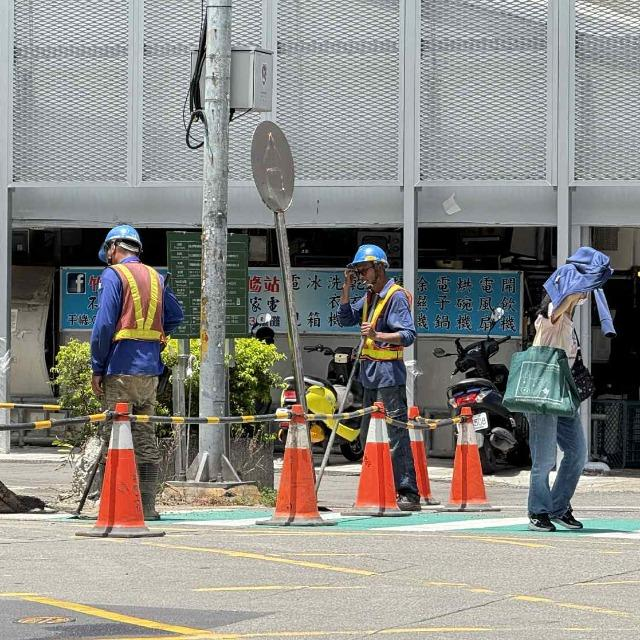Helmet: (342, 241, 392, 291)
Vest: (101, 260, 172, 368), (353, 286, 418, 372)
